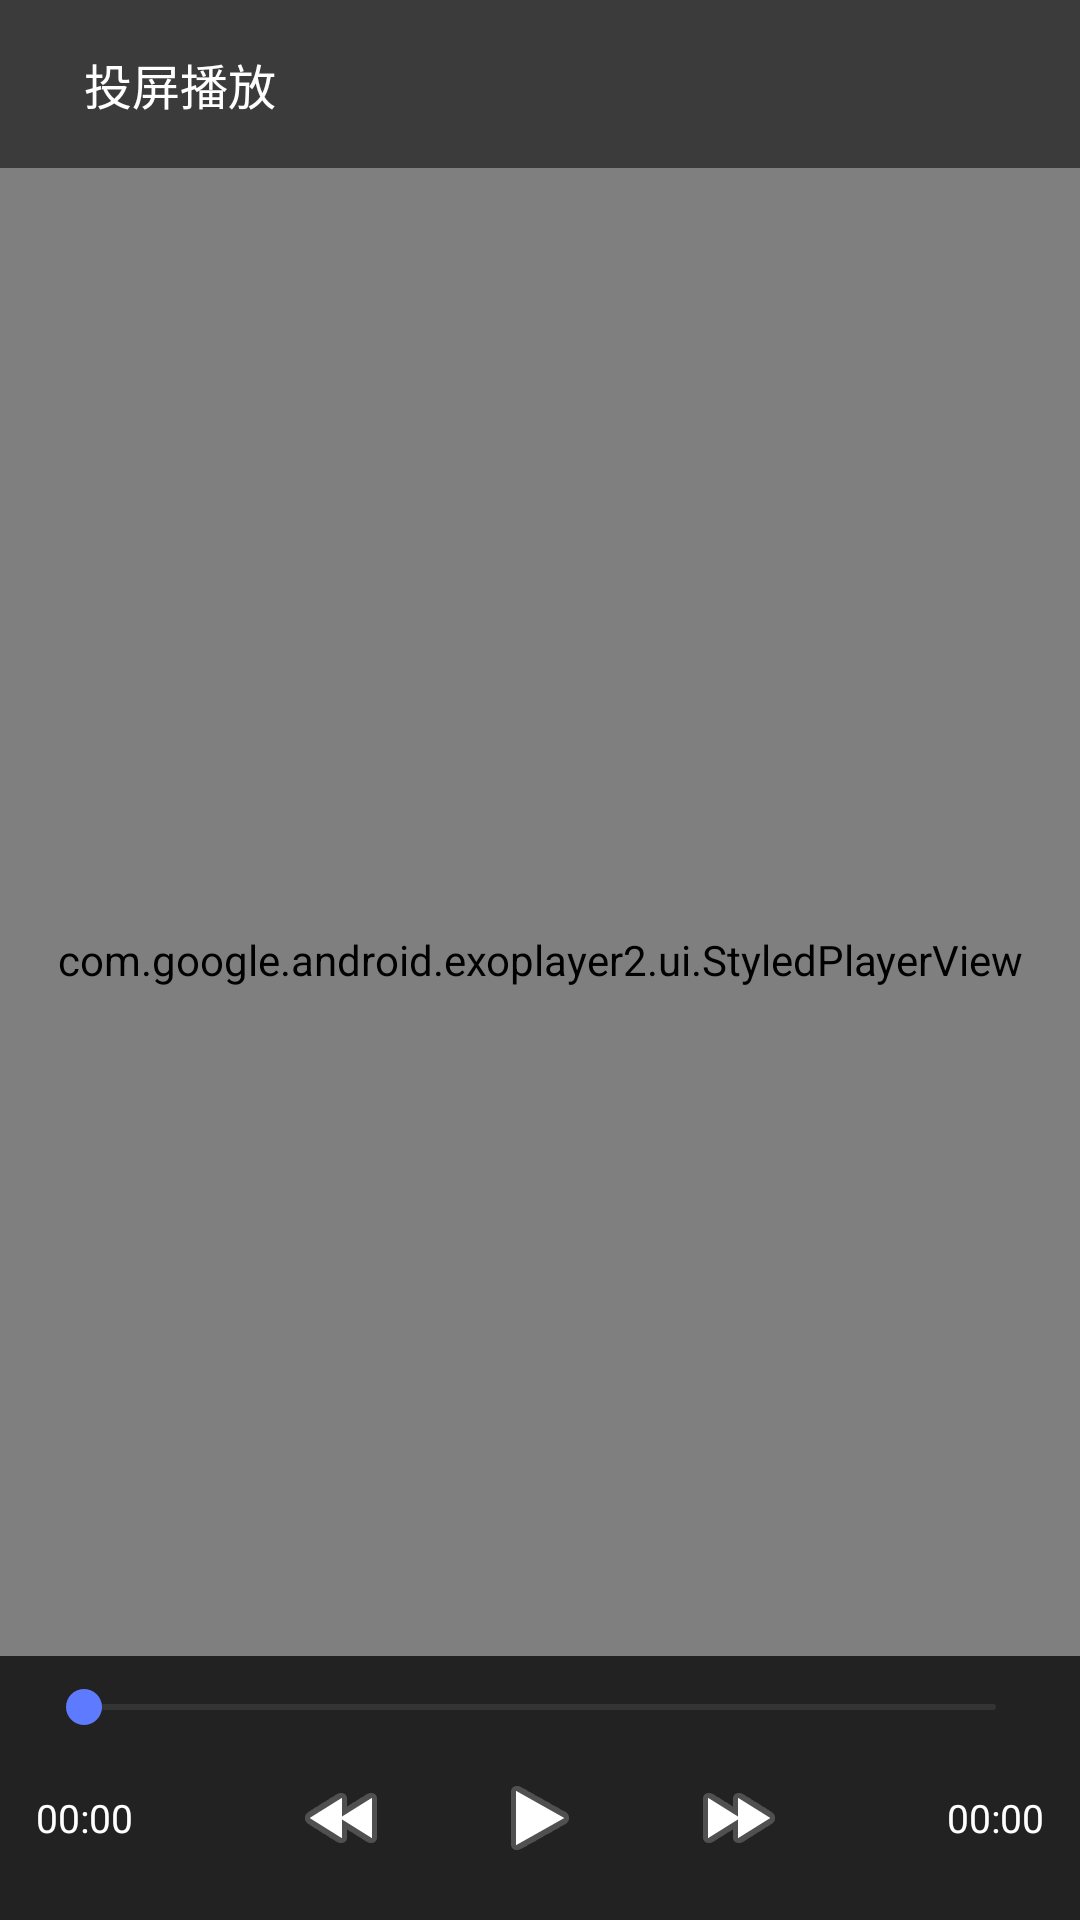

Locate icon controls on the screen. Image size 1080*1920, boxes as [x1=x1, y1=y1, x2=x2, y2=y2].
快进10秒: [x1=703, y1=1793, x2=775, y2=1843]
快退10秒: [x1=305, y1=1793, x2=377, y2=1843]
